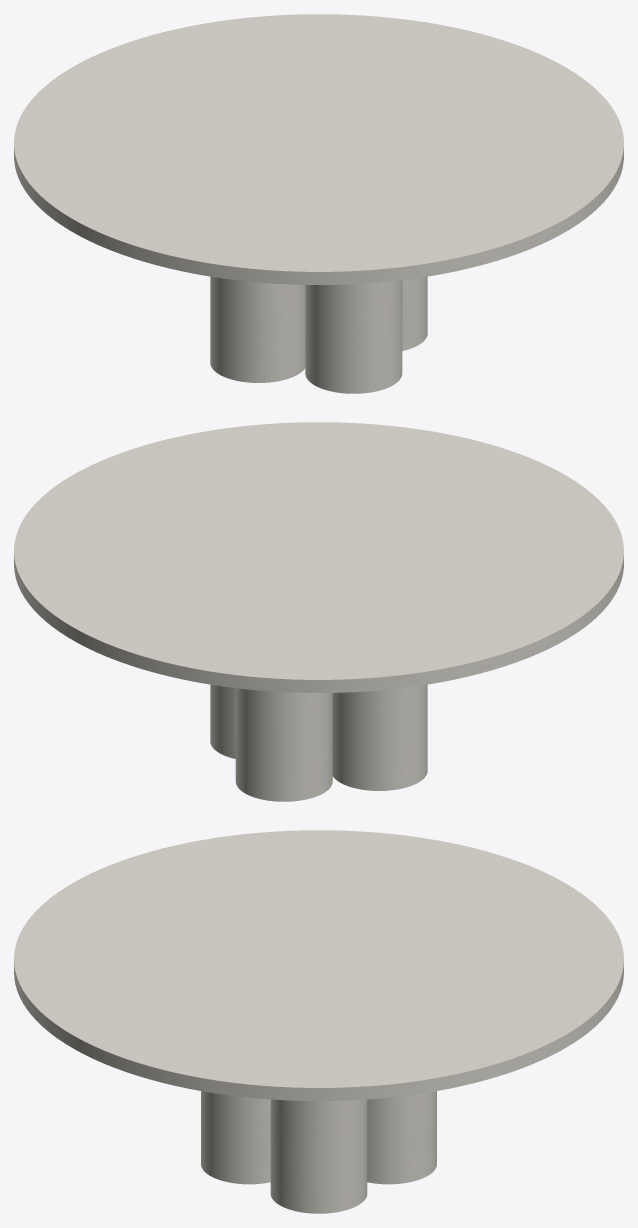
File: pale_round_standard_secondtable.glb
The picture shows the model from 3 angles, top to bottom: view 1: azimuth 30°, elevation 25°; view 2: azimuth 150°, elevation 25°; view 3: azimuth 270°, elevation 25°; orthographic projection.
Visible parts, largest first — view 1: standard_round, secondtable; view 2: standard_round, secondtable; view 3: standard_round, secondtable.
Boxes of the visible parts, bbox=[...] form: standard_round: bbox=[14, 14, 623, 284]; secondtable: bbox=[210, 276, 427, 393]; standard_round: bbox=[14, 422, 623, 692]; secondtable: bbox=[210, 684, 427, 801]; standard_round: bbox=[14, 830, 623, 1100]; secondtable: bbox=[201, 1091, 436, 1213].
Size of the model in its own units: 6.75 by 2.5 by 6.75.
1 material, 1 textured.
